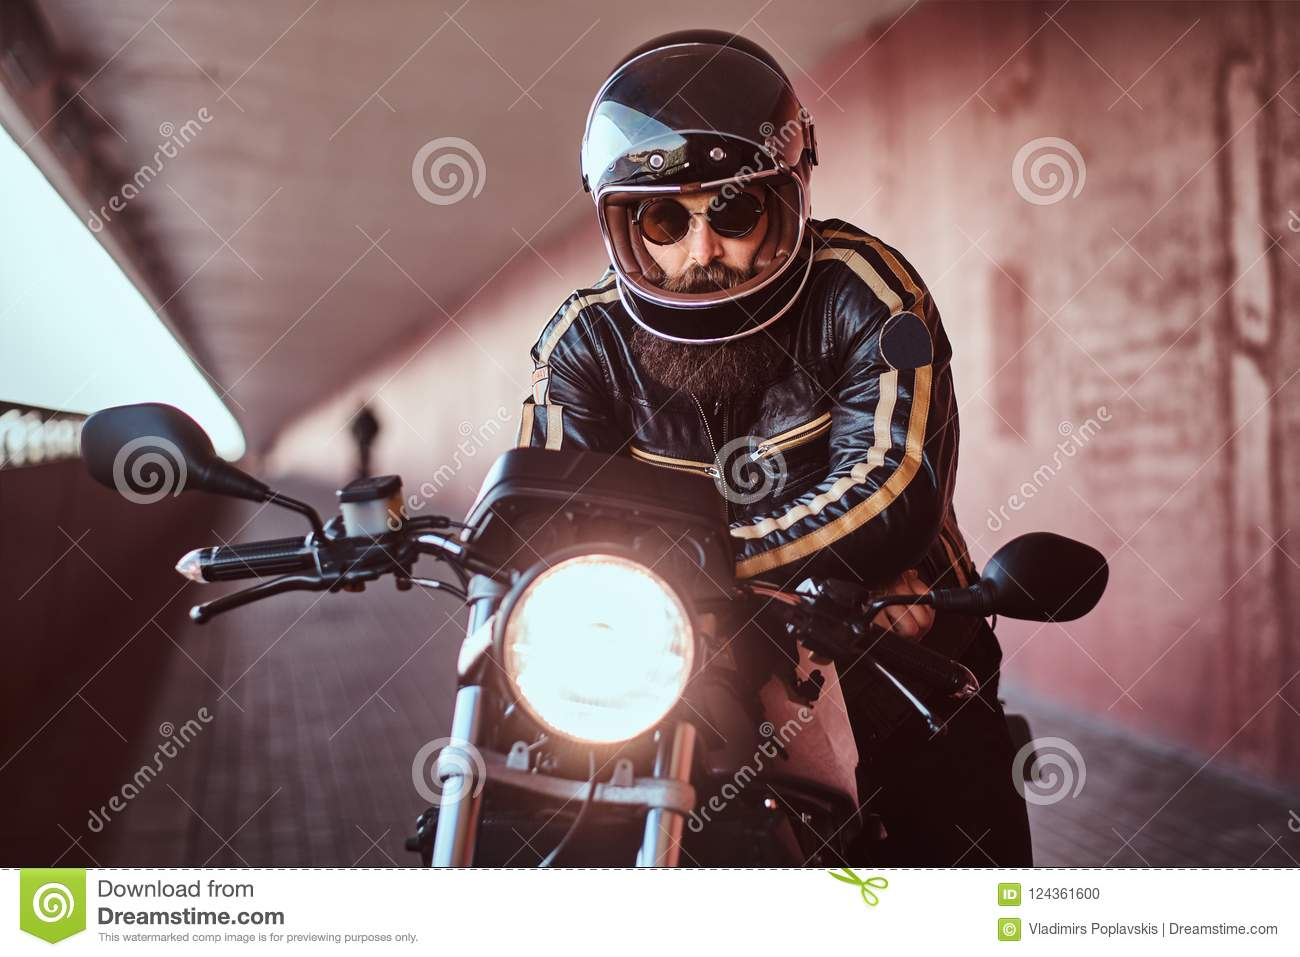helmet: (582, 39, 826, 327)
